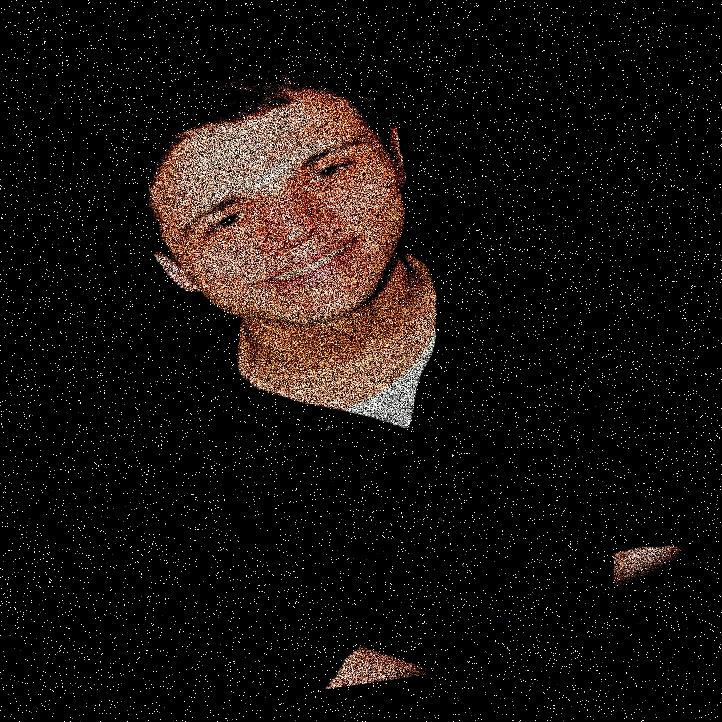Pessoa: (148, 0, 559, 721)
